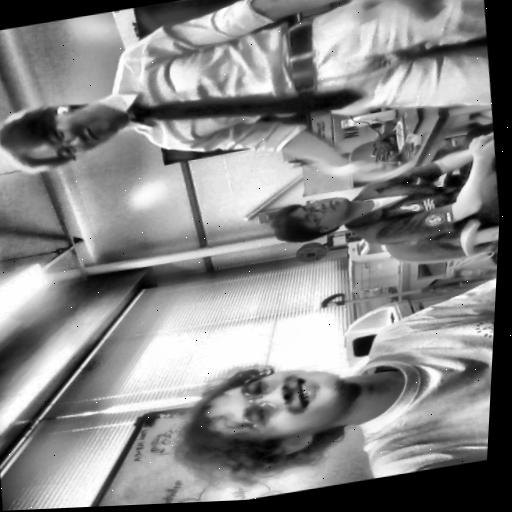Daifuku: (165, 343, 372, 494)
Not Daifuku: (0, 93, 124, 176), (270, 191, 354, 246)
